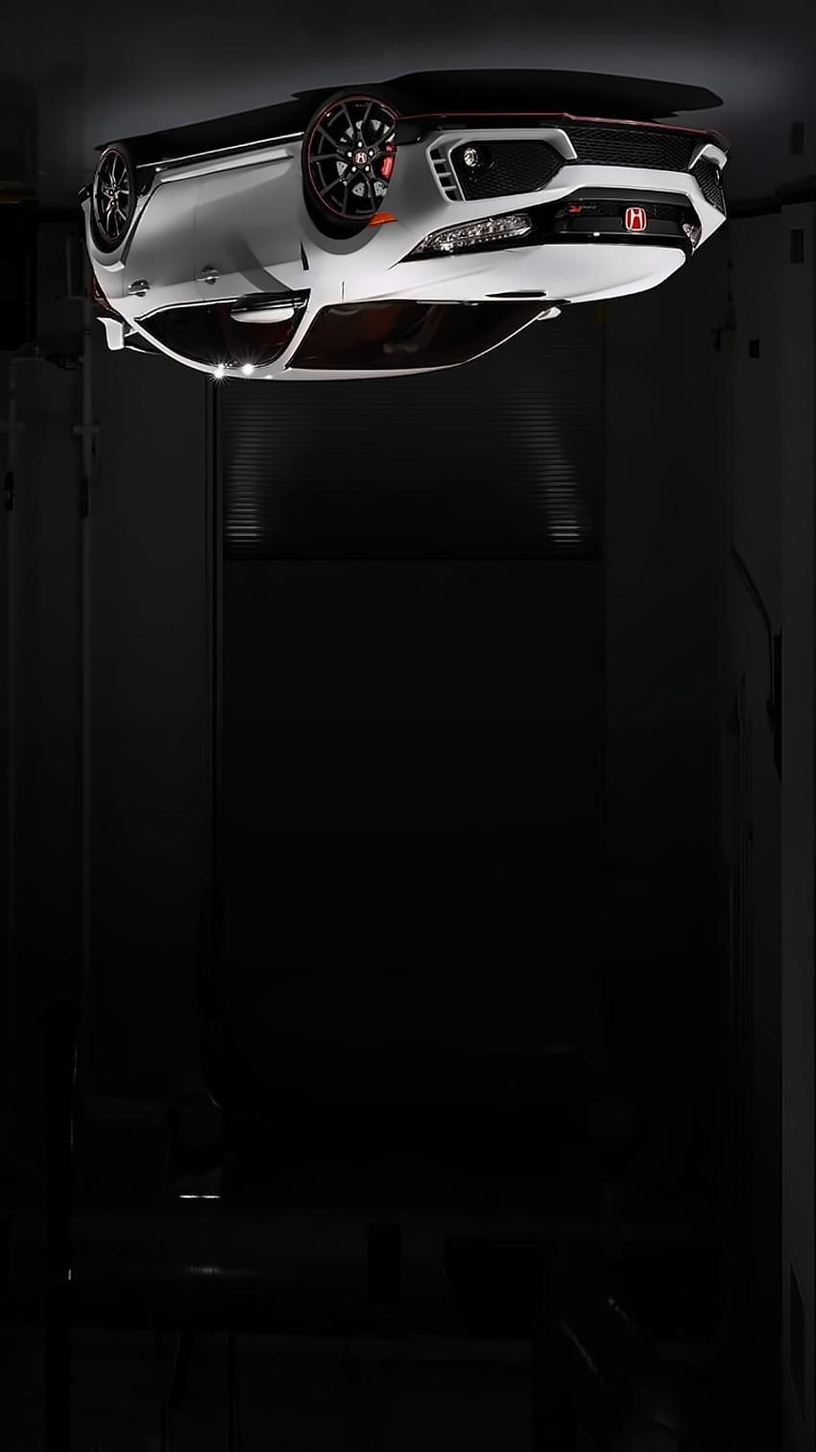Car hood: (356, 241, 689, 306)
Fender - -F-L-: (293, 128, 417, 307)
Fender - -R-L-: (95, 163, 138, 317)
Front bumper: (383, 110, 742, 221)
Headlight - -L-: (403, 208, 537, 264)
Headlight - -R-: (677, 215, 708, 264)
Passenger-s door - -F-L-: (191, 153, 303, 380)
Passenger-s door - -R-L-: (120, 173, 193, 367)
Rear bumper: (74, 181, 98, 257)
Rear light - -L-: (86, 273, 119, 326)
Side bumper - -L-: (129, 128, 306, 198)
Side mirror - -L-: (229, 288, 301, 326)
Side mirror - -R-: (533, 295, 564, 326)
